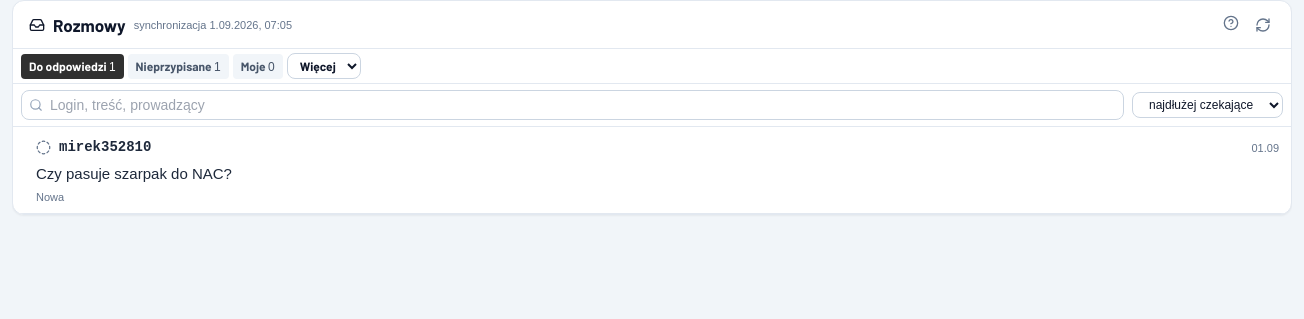
Test case: Szukanie w kolejce › wyczyszczenie przywraca całą listę
Type keys "6"
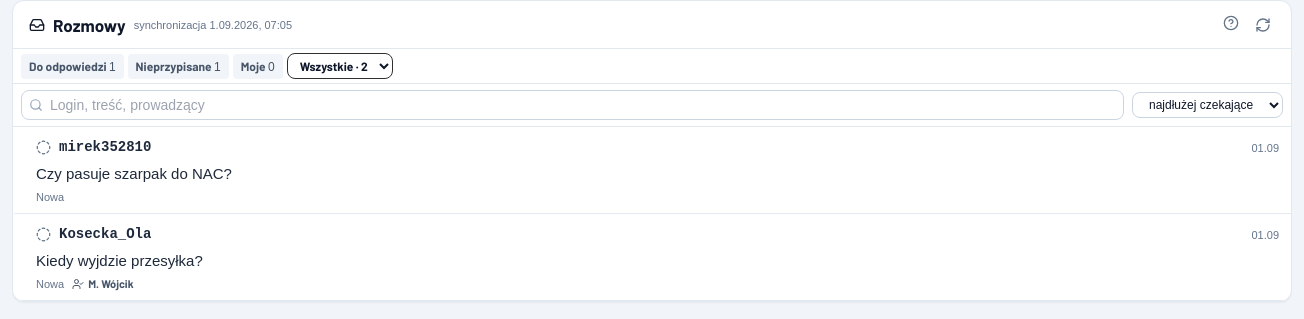
In the field named "Szukaj w rozmowach": (572, 105) [21,90,1124,120], type "mirek"
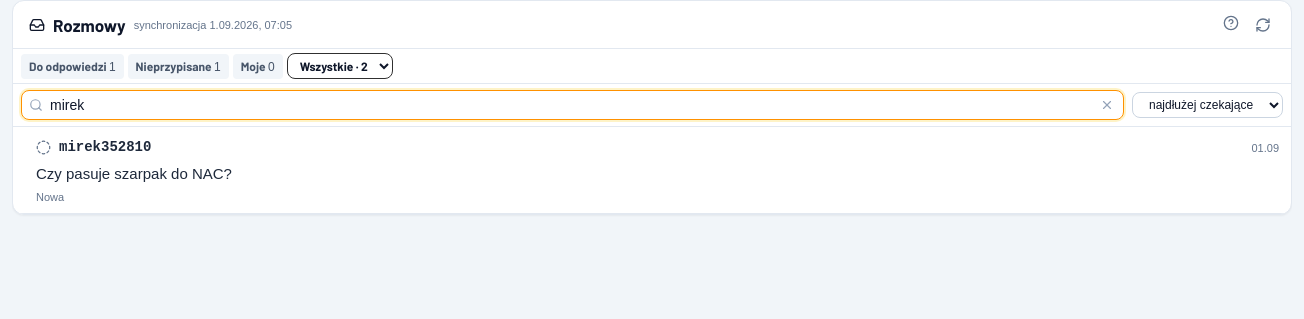
Click the button named "Wyczyść szukanie": (1107, 105) [1098,96,1116,114]
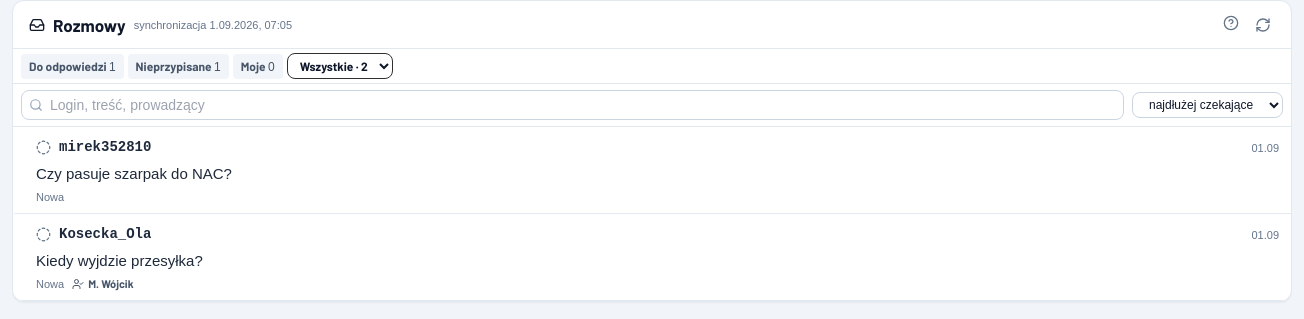
expect the text "mirek352810" is shown: met, box [59,137,151,157]
expect the text "Kosecka_Ola" is shown: met, box [59,224,151,244]
